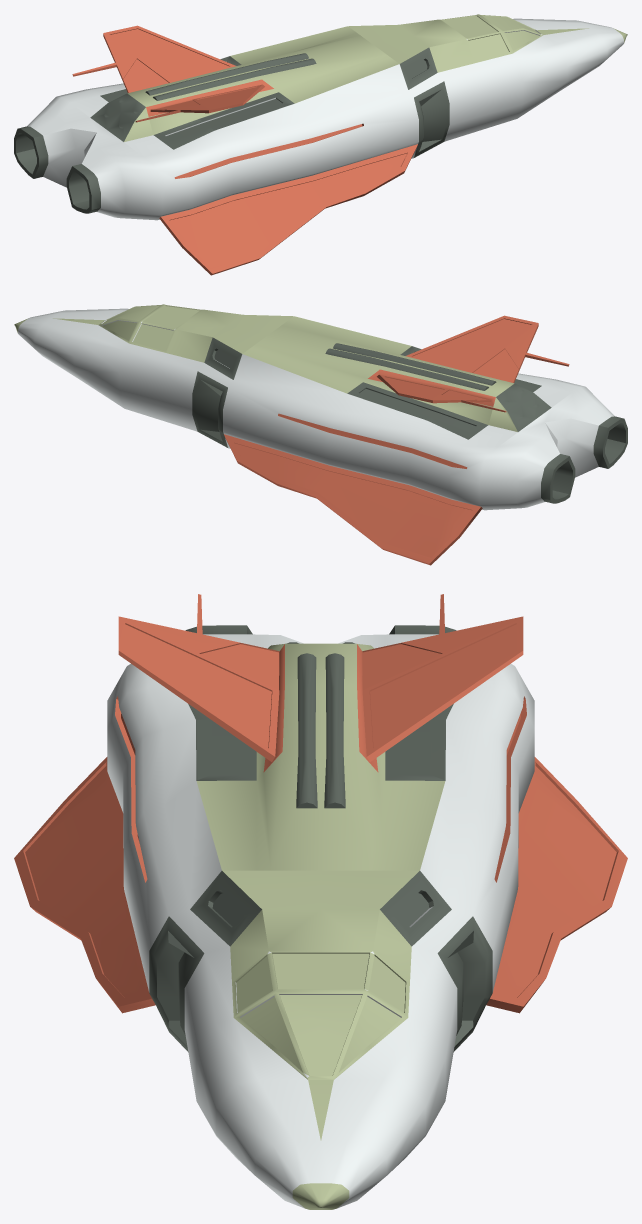
Rendered from spaceship_3.fbx.
The picture shows the model from 3 angles, top to bottom: view 1: azimuth 30°, elevation 25°; view 2: azimuth 150°, elevation 25°; view 3: azimuth 270°, elevation 25°; orthographic projection. The views are drawn at different scales.
Visible parts, largest first — view 1: Cube.011; view 2: Cube.011; view 3: Cube.011.
Part boxes in pixels (bbox=[...]): Cube.011: bbox=[14, 14, 627, 275]; Cube.011: bbox=[14, 304, 627, 565]; Cube.011: bbox=[14, 594, 627, 1209].
Size of the model in its own units: 1415 by 330 by 683.
